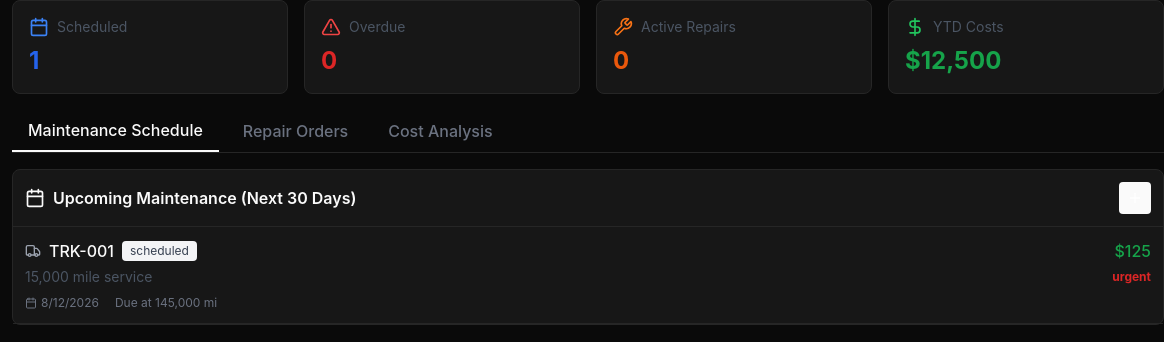
Test: MaintenancePanel — the repair orders tab › shows the recorded cost as a cost, not as an estimate
This screenshot has width=1164, height=342.
Check: the text "15,000 mile service" is shown, box [25,268,152,285]
Click the button "Repair Orders".
click(296, 131)  # box [227,110,364,152]
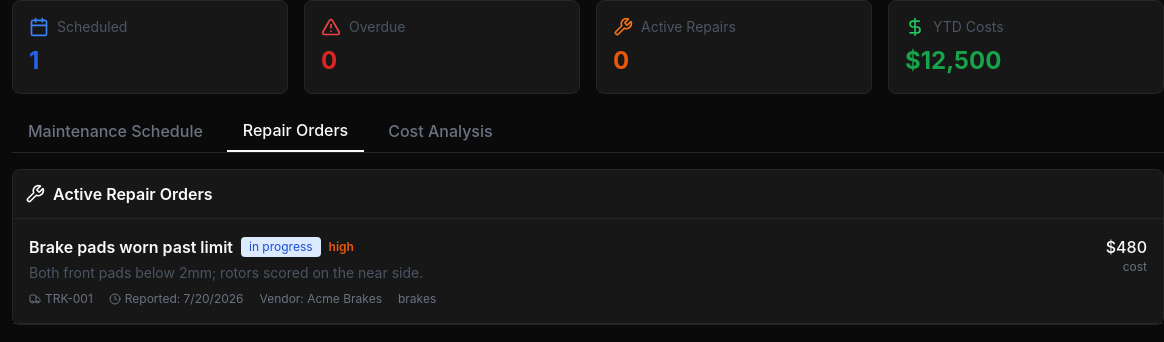
Check: the text "Brake pads worn past limit" is shown, box [29,235,233,259]
Check: the text "$480" is shown, box [1106,235,1147,259]
Check: the text "cost" is shown, box [1123,259,1147,274]
